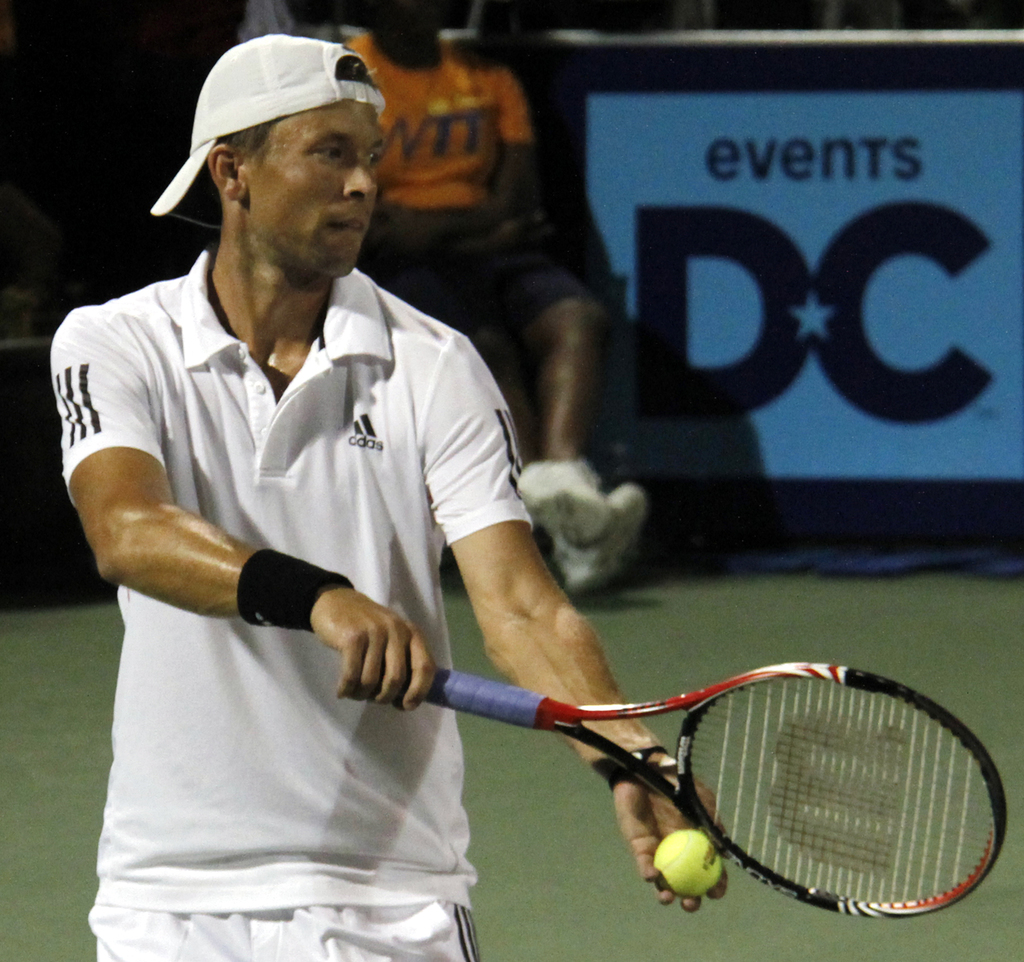Human_hand: (607, 780, 733, 912), (309, 587, 435, 710)
